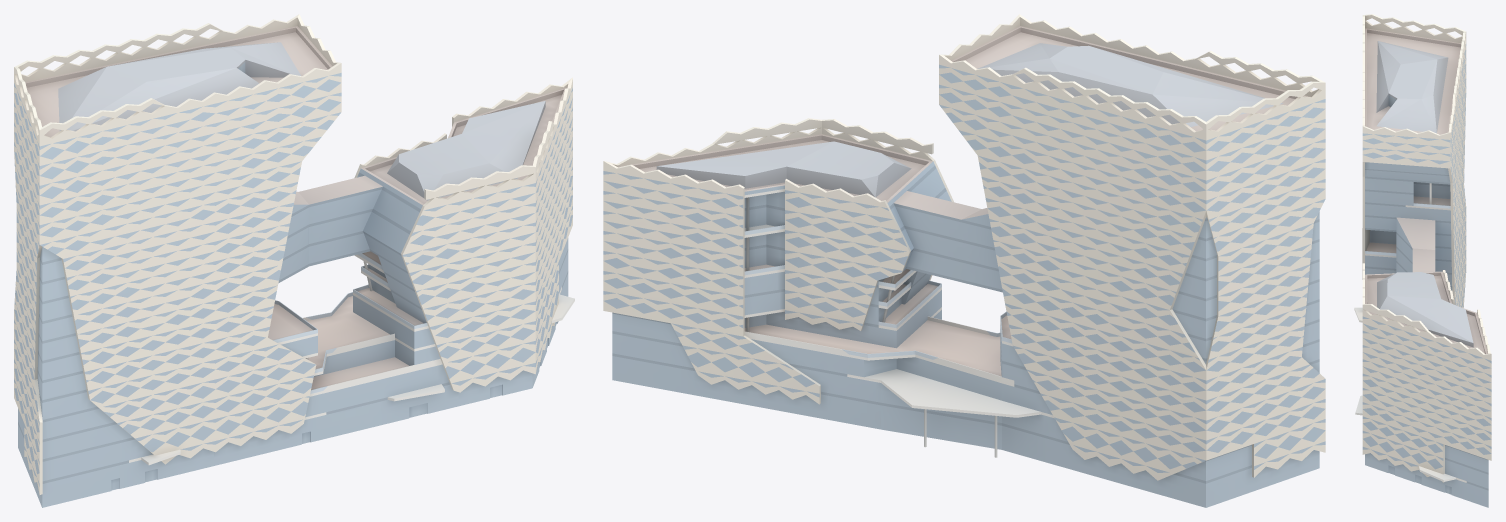
3 renders of one model, left to right at view 1: azimuth 30°, elevation 25°; view 2: azimuth 150°, elevation 25°; view 3: azimuth 270°, elevation 25°, orthographic. The views are drawn at different scales.
Visible parts, largest first — view 1: 70030076431343140; view 2: 70030076431343140; view 3: 70030076431343140.
Part boxes in pixels (x1,y1,x2,y2): 70030076431343140: [14, 14, 574, 507]; 70030076431343140: [603, 14, 1325, 507]; 70030076431343140: [1354, 14, 1491, 507].
Bounding box in the file's own units: 148 × 87.06 × 39.07.
1 material, 1 textured.
